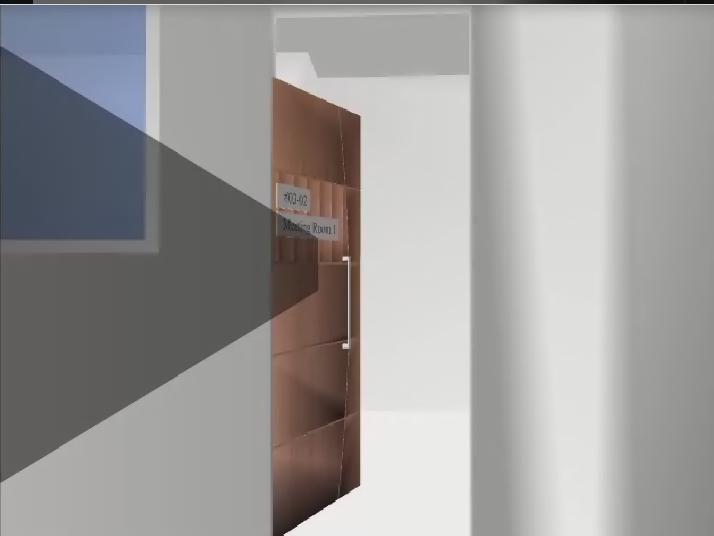door: (272, 76, 361, 536)
